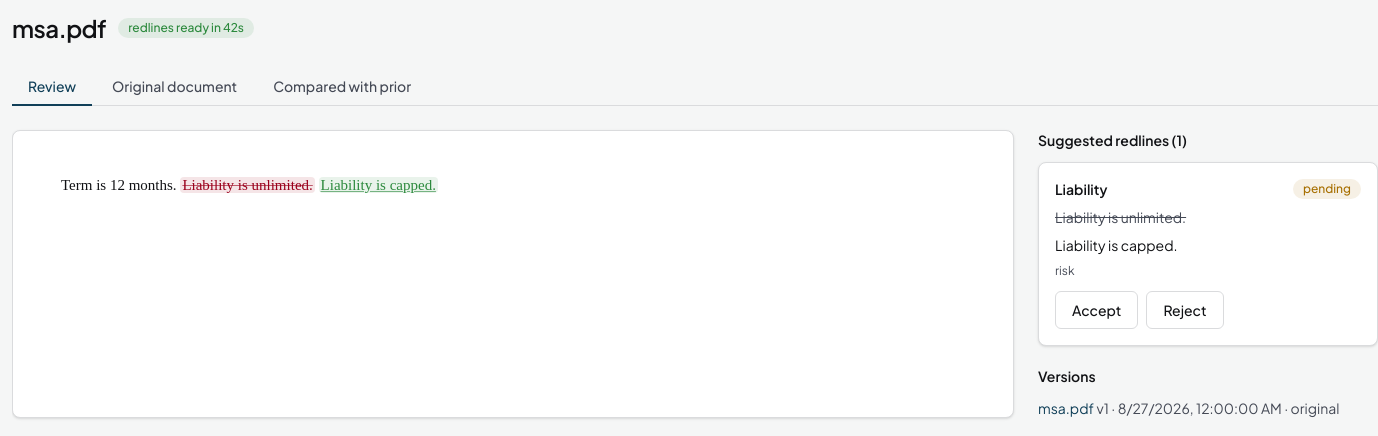
Test: comparison tab fetches lazily and renders summary, highlight, and change card
Click the tab "Compared with prior": (342, 87) [257, 68, 427, 106]
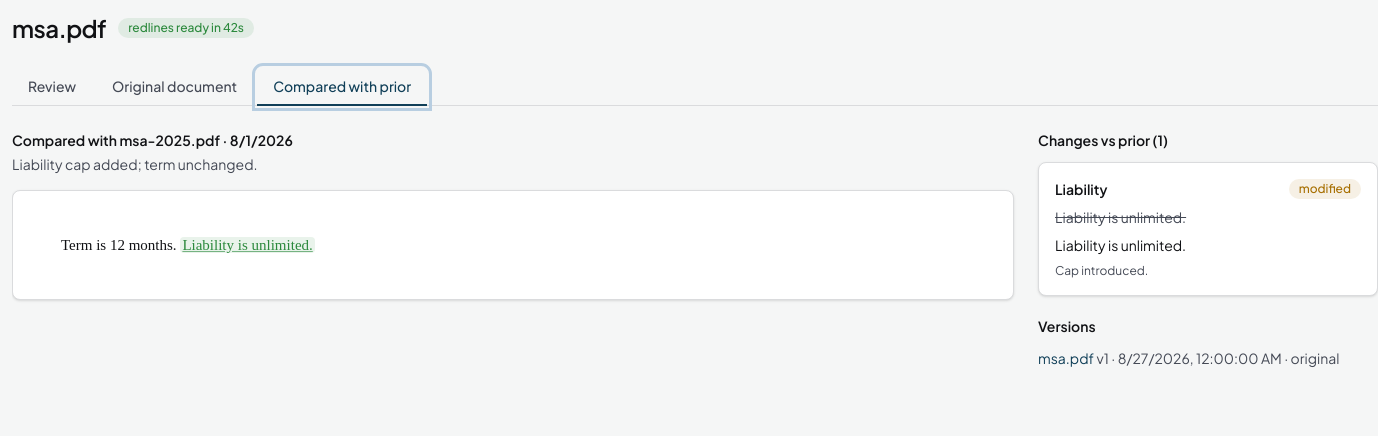
Now the text "Liability cap added; term unchanged." is shown, box [12, 155, 258, 173]
Now the text "Compared with msa-2025.pdf · 8/1/2026" is shown, box [12, 131, 293, 149]
Now the text "Liability is unlimited." next to "Term is 12 months." is shown, box [182, 237, 313, 253]
